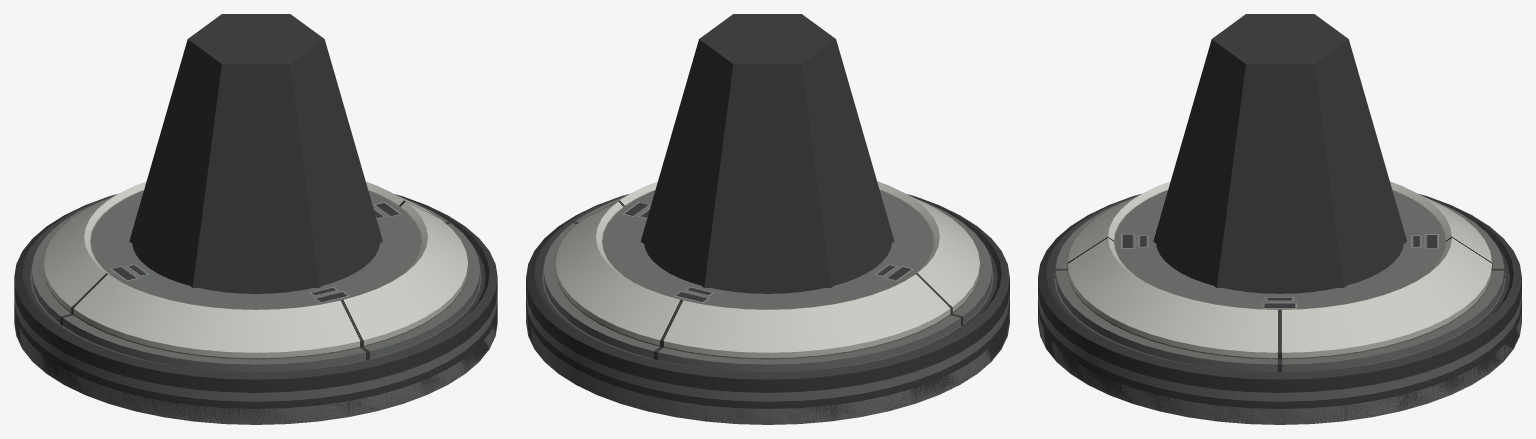
File: laser_relay.glb
The picture shows the model from 3 angles, left to right: view 1: azimuth 30°, elevation 25°; view 2: azimuth 150°, elevation 25°; view 3: azimuth 270°, elevation 25°; orthographic projection.
Parts seen in each view (by area): view 1: EDITOR_laserrecw; view 2: EDITOR_laserrecw; view 3: EDITOR_laserrecw.
Part boxes in pixels (x1,y1,x2,y2): EDITOR_laserrecw: (14, 14, 497, 424); EDITOR_laserrecw: (526, 14, 1009, 424); EDITOR_laserrecw: (1038, 14, 1521, 424).
Size of the model in its own units: 0.6861 by 0.4439 by 0.6861.
Materials: 1 (1 with a texture image).
